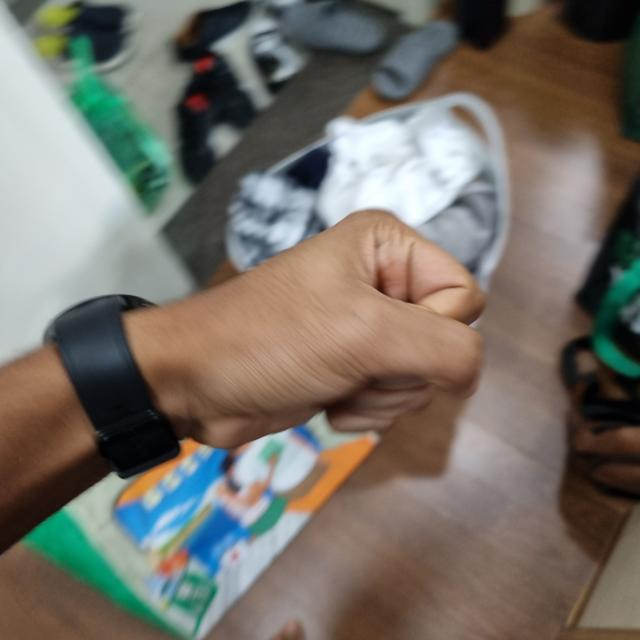Rock: (139, 210, 484, 448)
